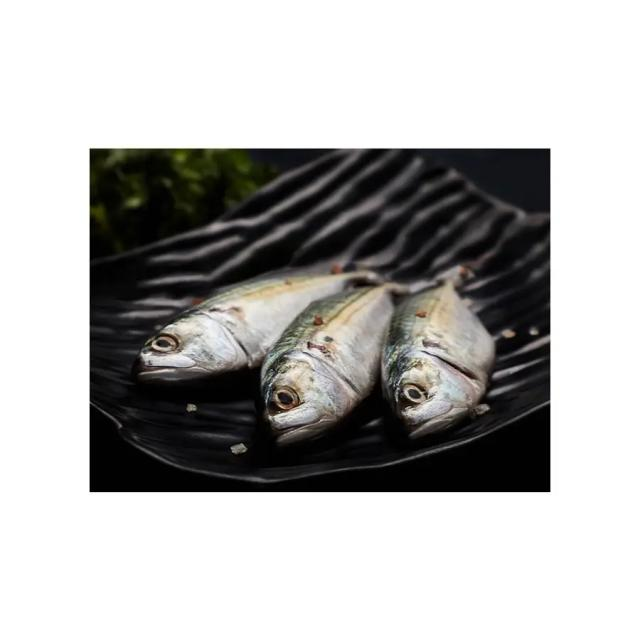Mackerel: (132, 270, 381, 383), (260, 284, 394, 446), (381, 280, 495, 438)
